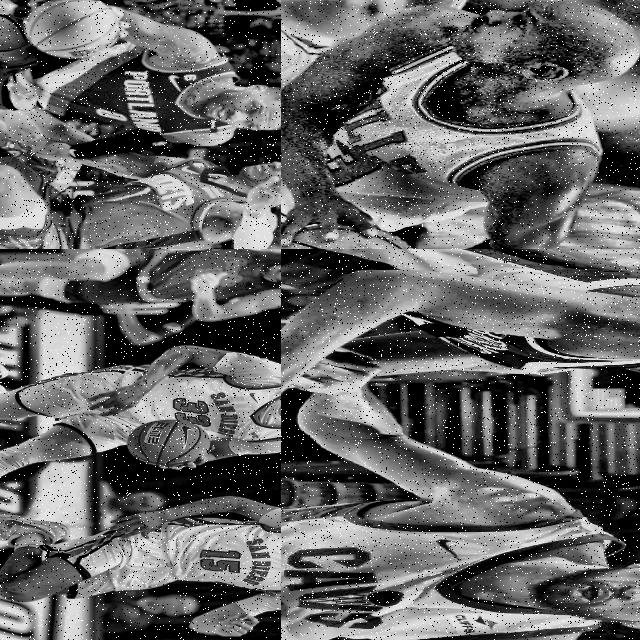Basketball: (25, 0, 118, 59), (128, 420, 211, 466)
